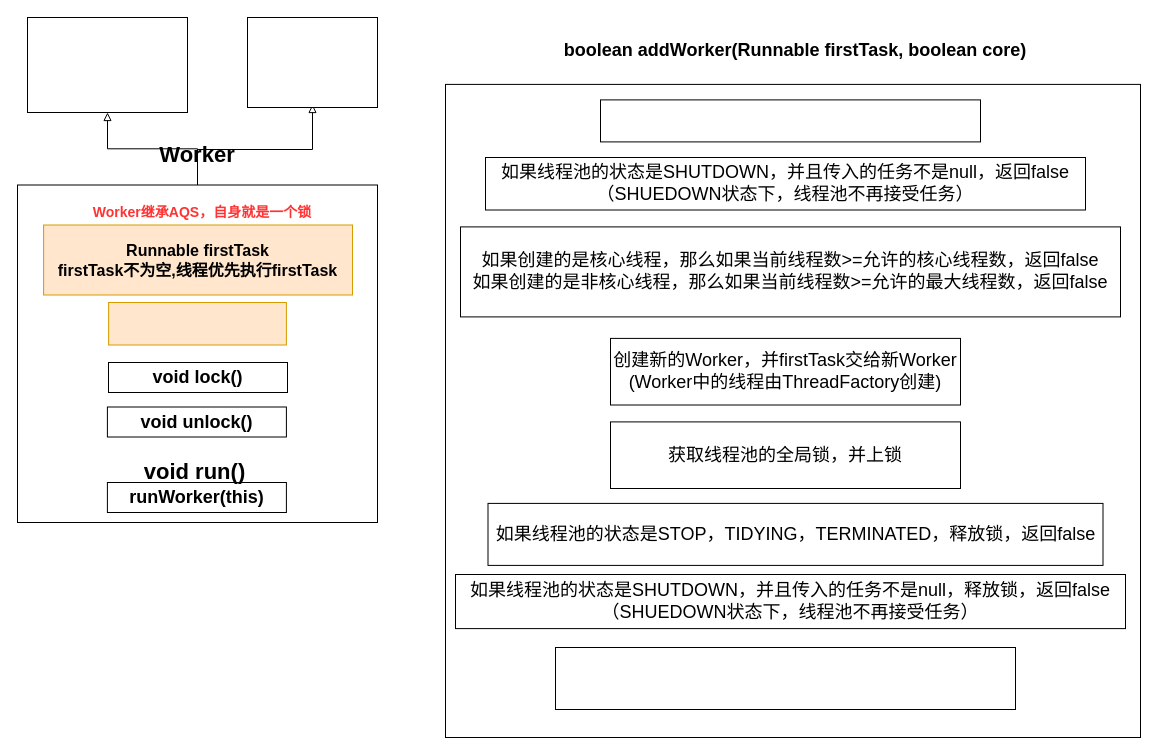
This 1158x755 diagram has some shape labels left out. The centre of each missing label's shape, as x and y in pixels:
"AQS" belongs at [312,62].
"Runnable" belongs at [107,64].
"Thread thread" belongs at [197,323].
"如果线程池的状态是STOP，TIDYING，TERMINATED，返回false" belongs at [790,120].
"将worker加入workers 释放锁，让线程开始执行任务，返回true" belongs at [785,678].
